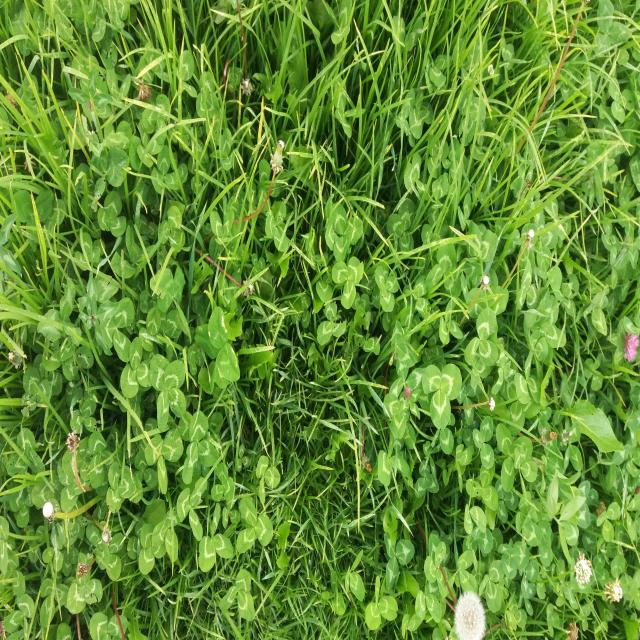Four Leaf Clover: (149, 352, 186, 431)
